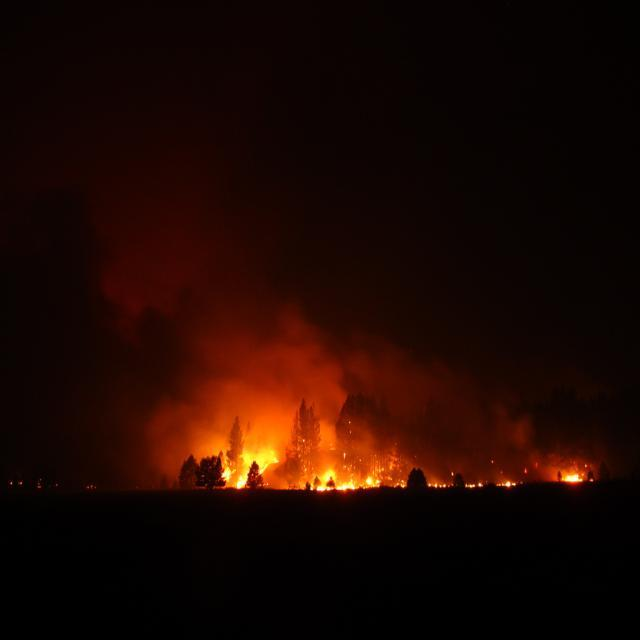Fire: (230, 440, 379, 493)
